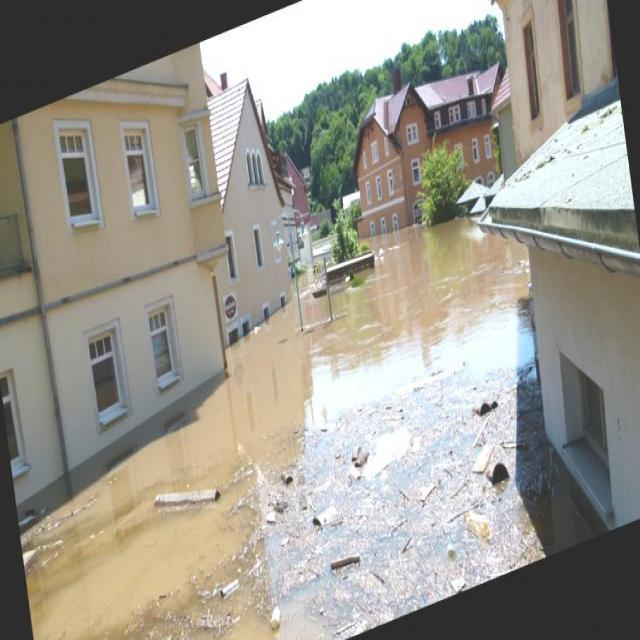flood: (0, 162, 542, 620)
